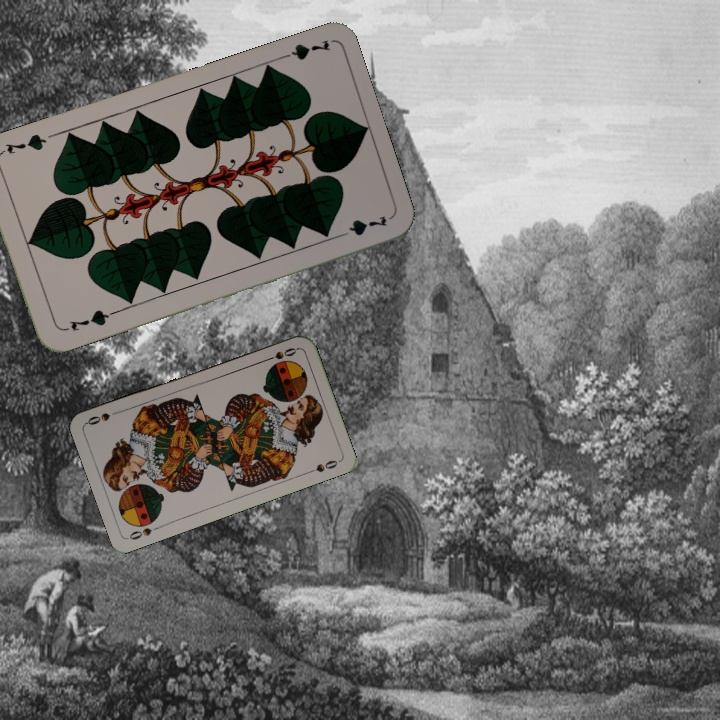G7: (273, 35, 333, 63), (65, 305, 116, 334)
SO: (125, 521, 164, 542), (261, 344, 300, 364)
